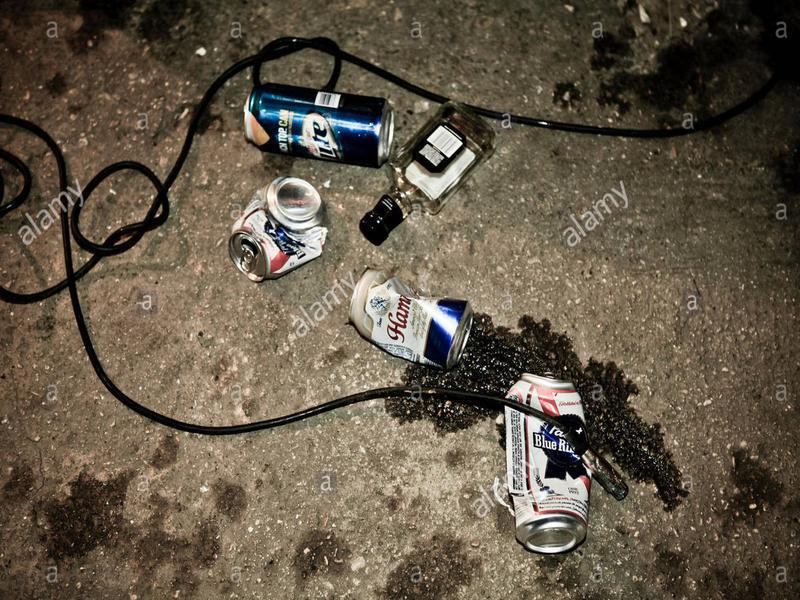bottle: (357, 89, 502, 251)
can: (493, 368, 597, 557), (344, 263, 479, 377), (237, 79, 399, 171), (225, 174, 341, 286)
